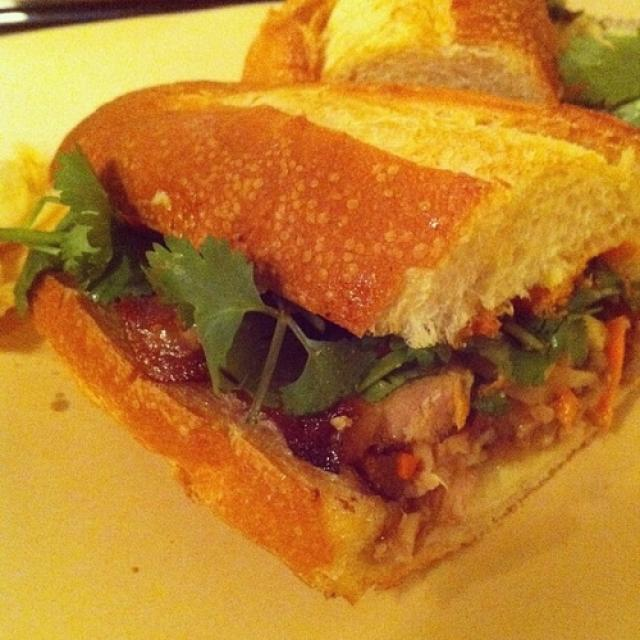牛肉菜式: (1, 26, 634, 604)
